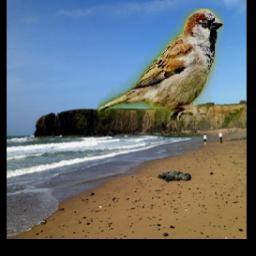Sparrow: (97, 9, 223, 122)
